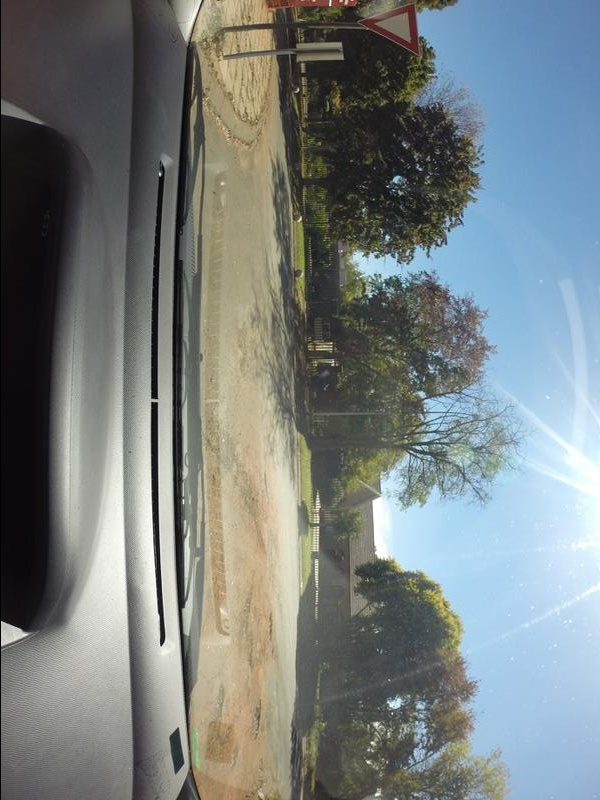pothole: (251, 700, 267, 746), (238, 612, 251, 668), (209, 689, 228, 720), (265, 618, 278, 642)
